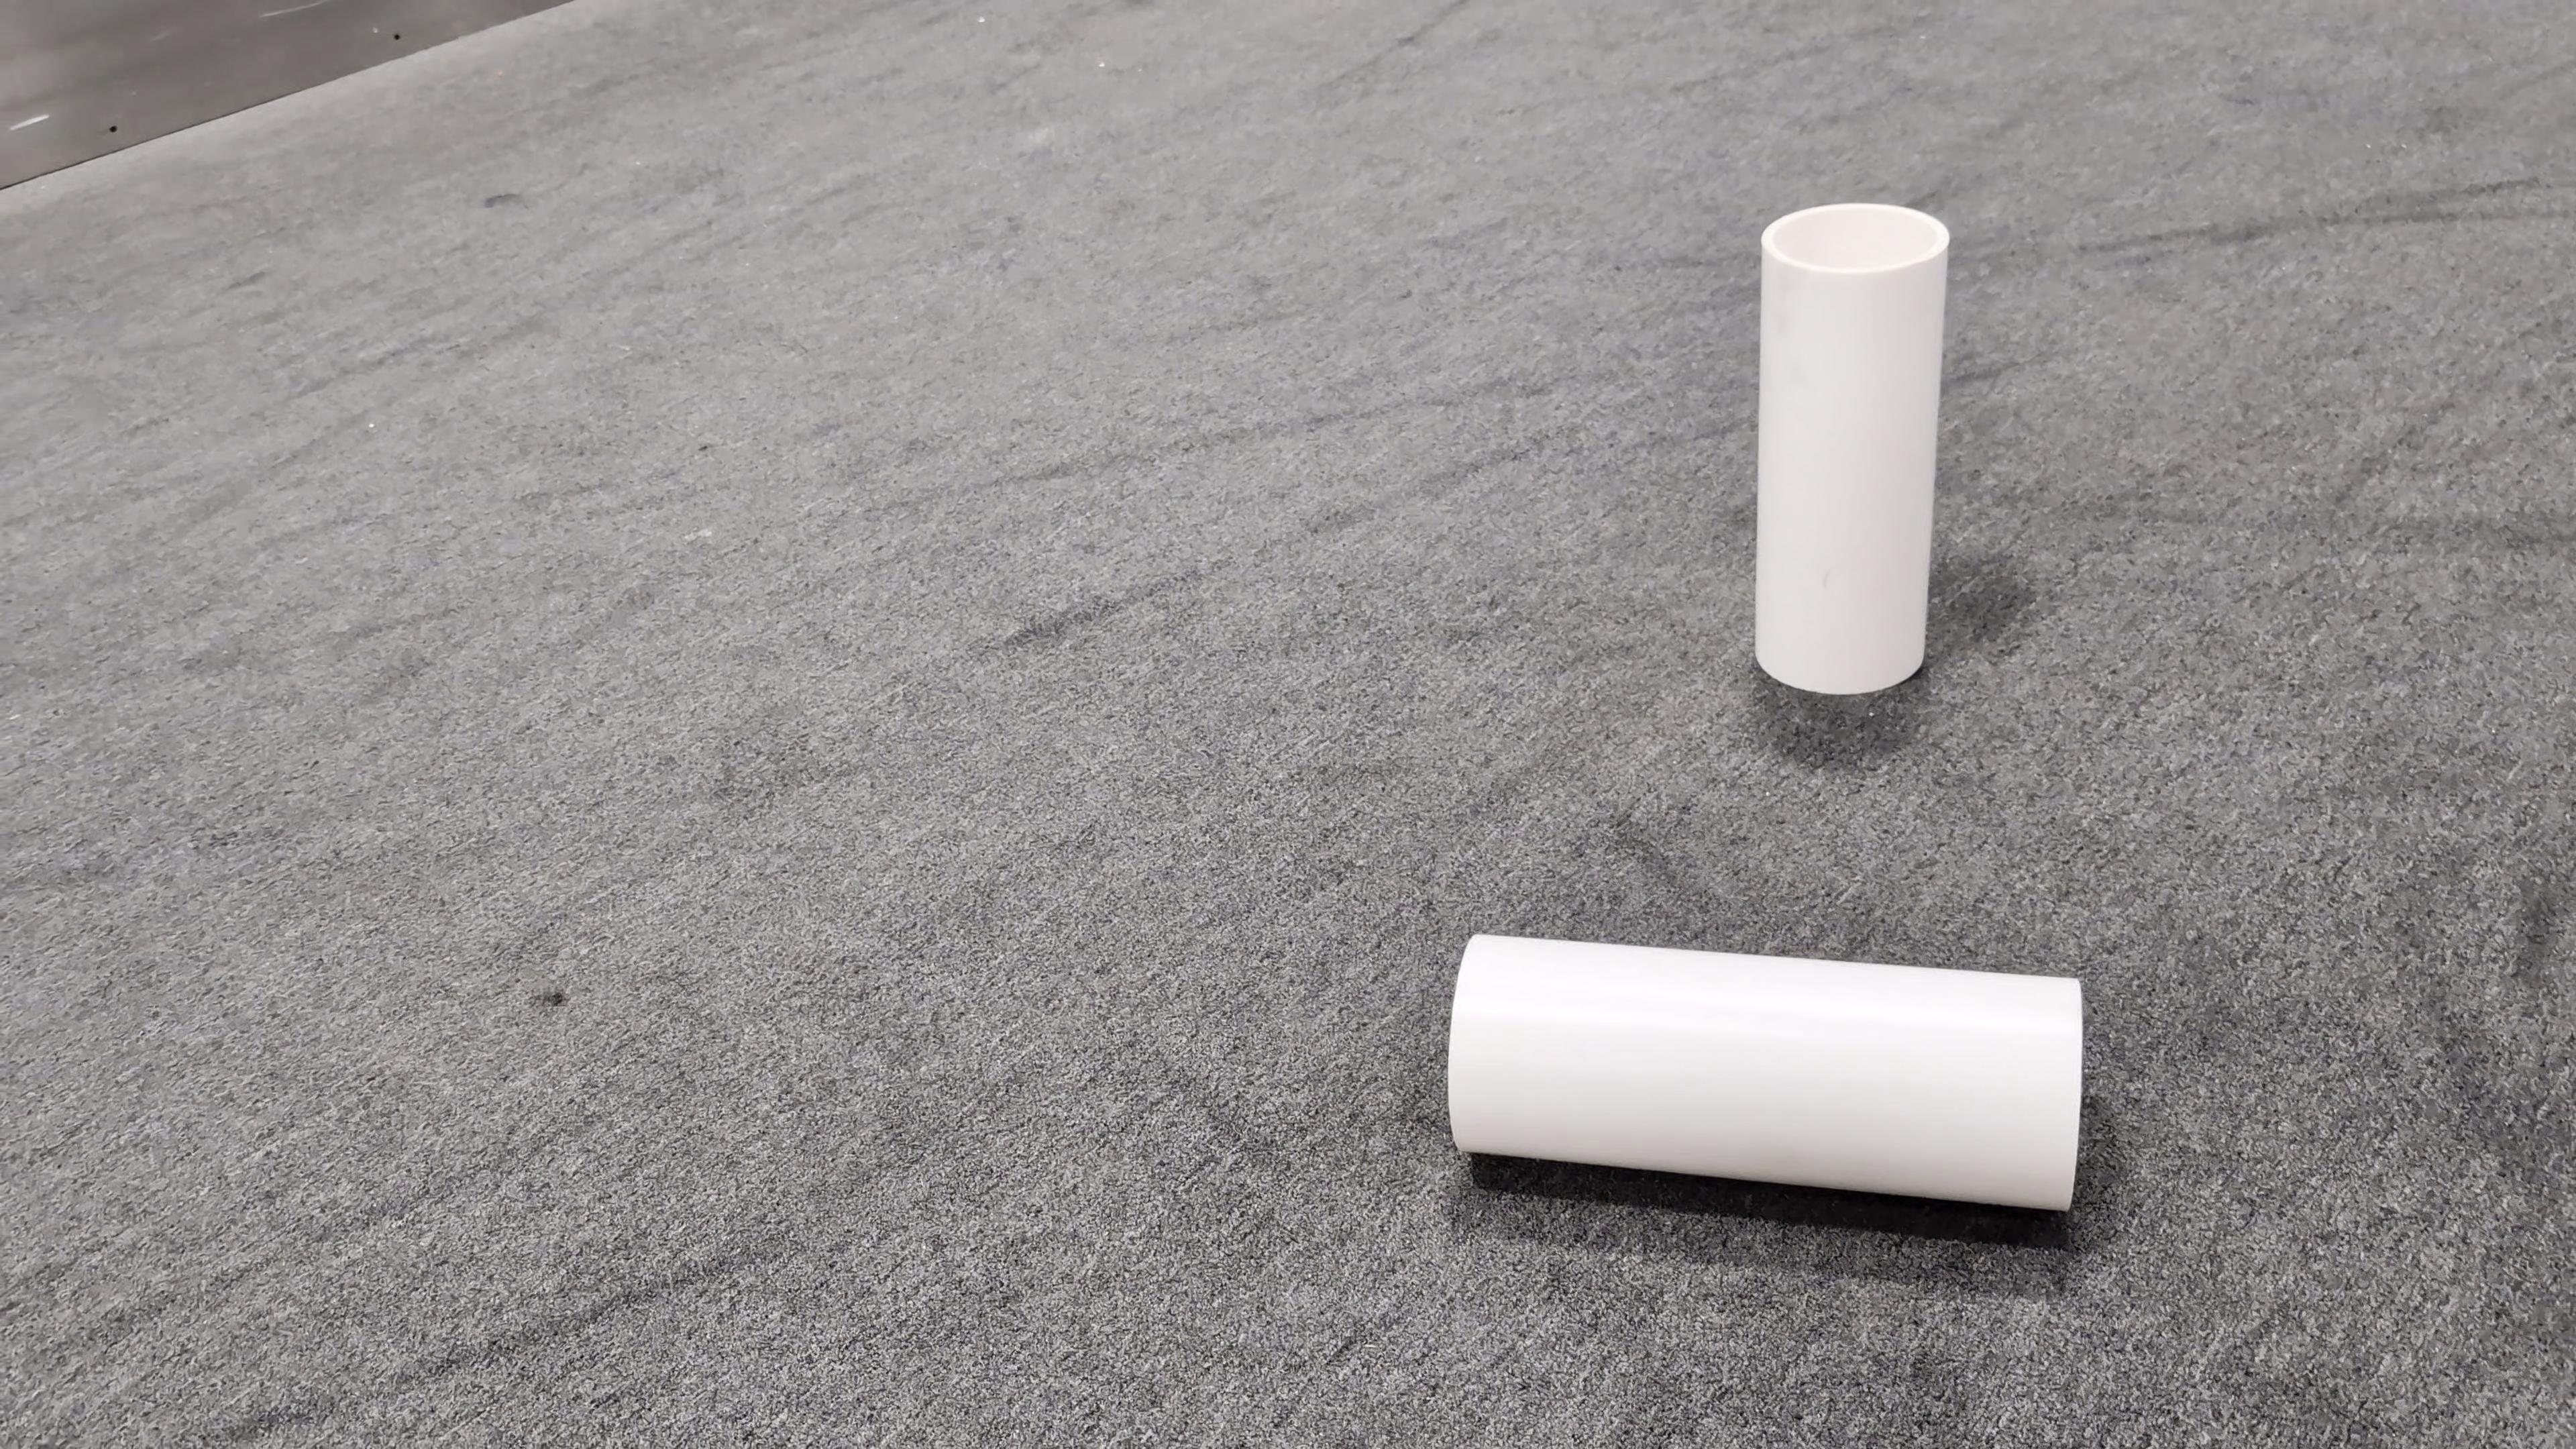coral: (1445, 927, 2089, 1214), (1748, 202, 1955, 695)
